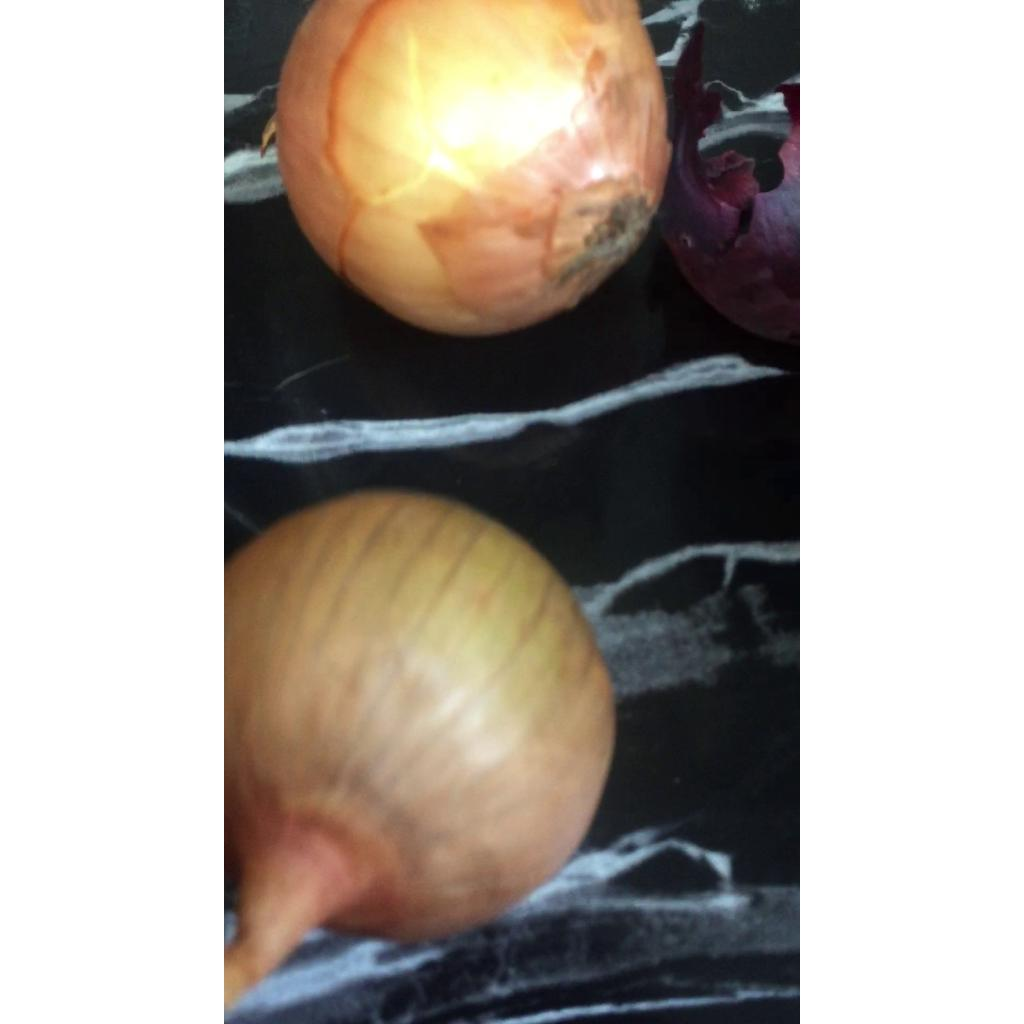Onion: (225, 492, 614, 1007), (276, 0, 669, 334)
